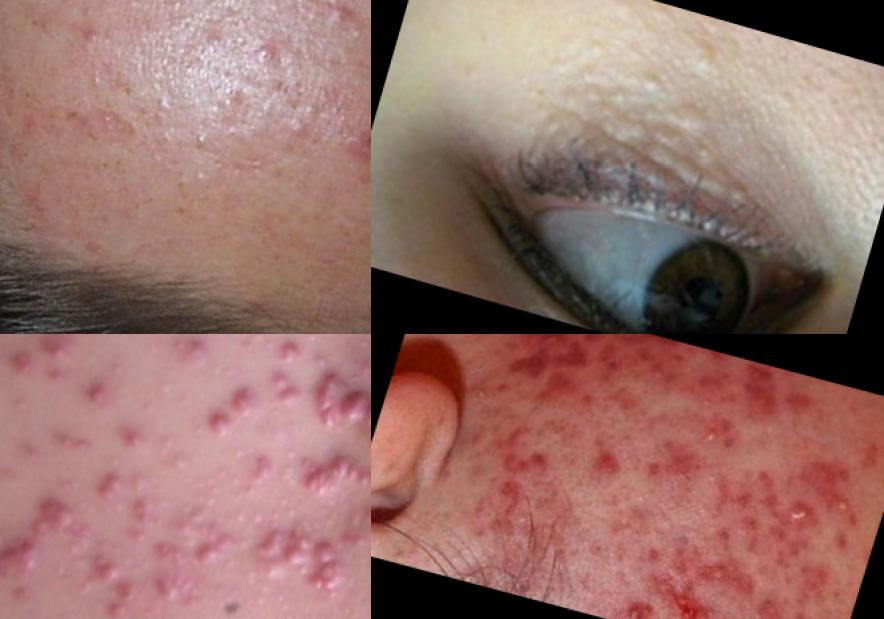acne_scars: (487, 471, 540, 523)
blackhead: (540, 413, 579, 458)
folliculitis: (832, 484, 864, 521), (470, 373, 503, 408)
keloid: (292, 445, 372, 518), (302, 540, 356, 604), (1, 527, 44, 600), (29, 494, 88, 545), (325, 382, 372, 442)
milium: (692, 384, 726, 415)
papular: (332, 100, 372, 179), (1, 345, 52, 395), (222, 383, 261, 424), (200, 410, 240, 447), (521, 335, 573, 361)
purulent: (694, 414, 737, 454)
sebo-crystan-conglo: (73, 551, 192, 619), (152, 515, 241, 586), (246, 519, 320, 593), (91, 465, 169, 530), (304, 362, 355, 438), (334, 499, 372, 564), (261, 371, 308, 415), (663, 580, 713, 619), (779, 497, 820, 537), (273, 335, 312, 374), (614, 591, 661, 619), (706, 605, 755, 619)
syringoma: (520, 50, 767, 223)
whitehead: (69, 4, 131, 56), (278, 88, 332, 146), (308, 1, 372, 47), (73, 59, 126, 107), (188, 112, 230, 164), (222, 491, 264, 537), (155, 1, 211, 25)
